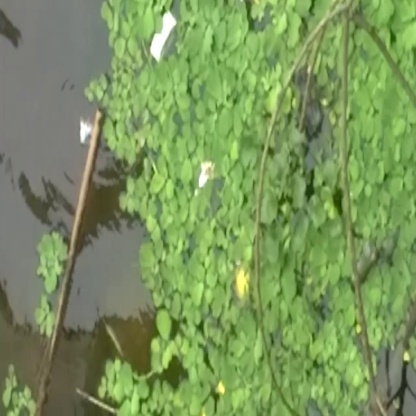branch: (38, 111, 105, 409)
